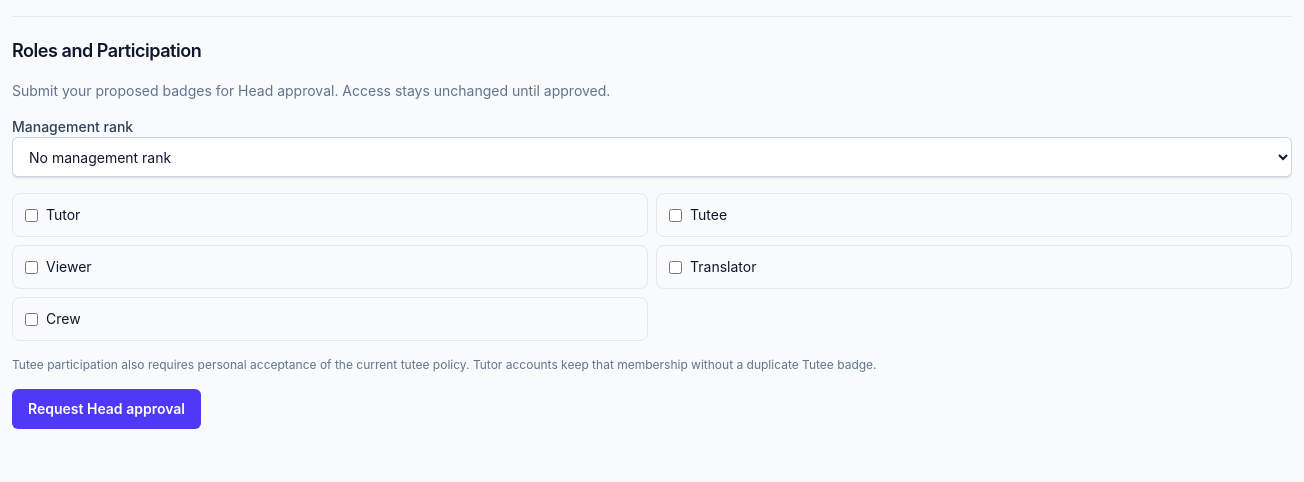
Test: keeps Viewer conflicts visible and blocks submission
This screenshot has width=1304, height=482.
Click the checkbox labelled "Viewer": (32, 267) [25,260,38,274]
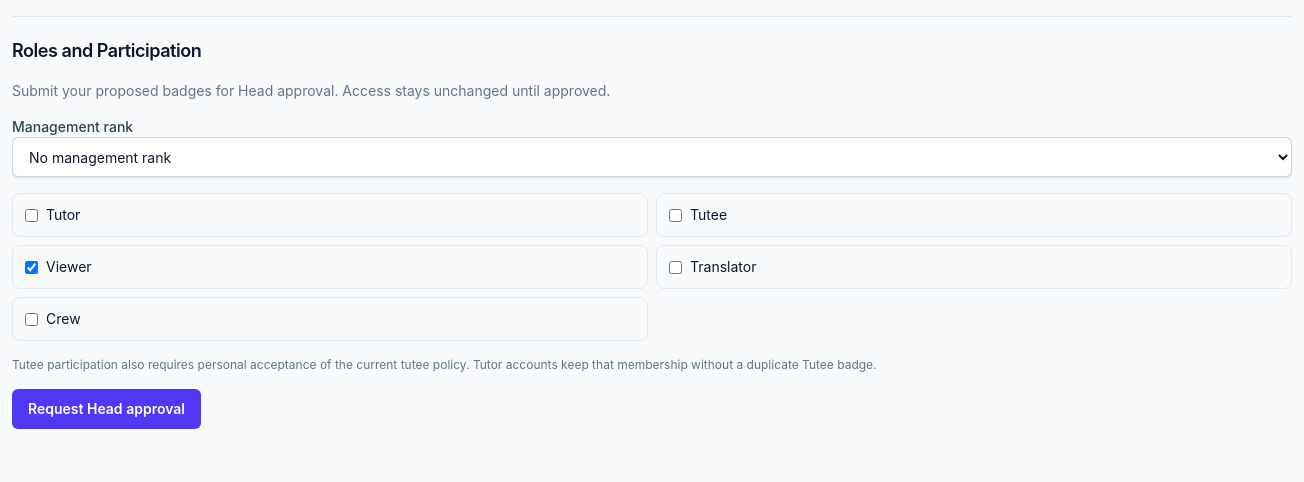
Click the checkbox labelled "Crew": (32, 319) [25,312,38,326]
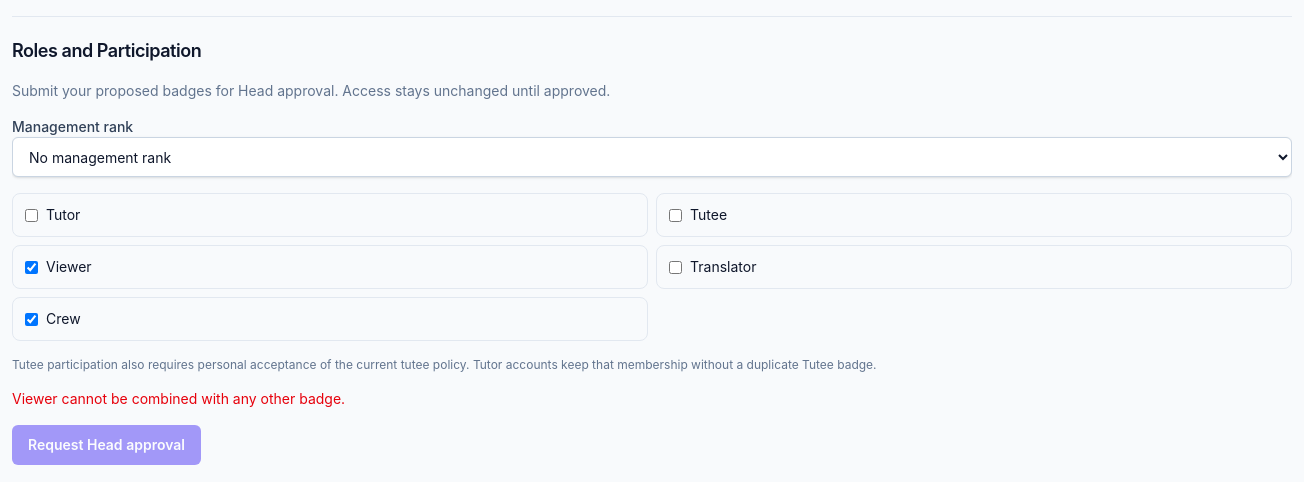
expect the message shows "Viewer cannot": met, box [12,390,345,407]
expect the button "Request Head approval" is disabled: met, box [12,425,201,465]
